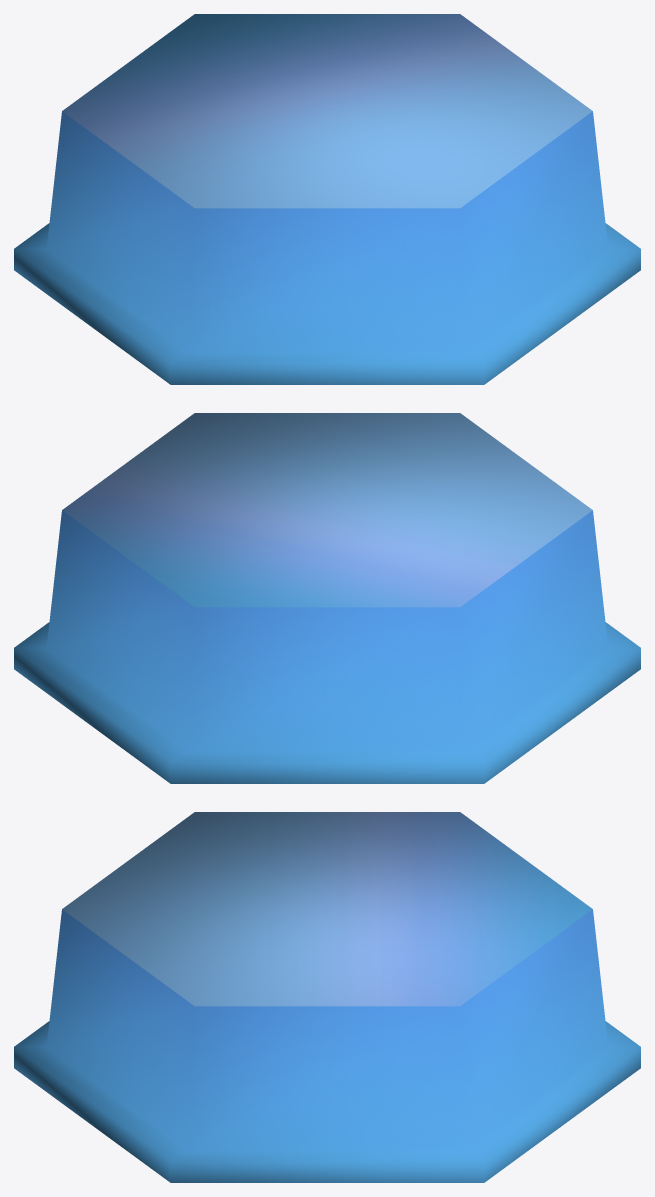
The model's file is JZT_shizuo.FBX.
3 views of the same model, one above another, from view 1: azimuth 30°, elevation 25°; view 2: azimuth 150°, elevation 25°; view 3: azimuth 270°, elevation 25° (orthographic).
Parts seen in each view (by area): view 1: JZT_shizuo; view 2: JZT_shizuo; view 3: JZT_shizuo.
Part boxes in pixels (x1,y1,x2,y2): JZT_shizuo: [14, 14, 640, 384]; JZT_shizuo: [14, 413, 640, 783]; JZT_shizuo: [14, 812, 640, 1182].
Bounding box in the file's own units: 328 × 106 × 379.
